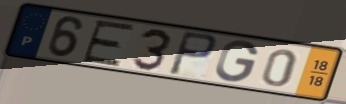0: (259, 48, 302, 88)
3: (129, 27, 173, 72)
6: (46, 16, 85, 59)
E: (79, 19, 138, 68)
G: (214, 40, 261, 84)
P: (165, 30, 219, 78)
